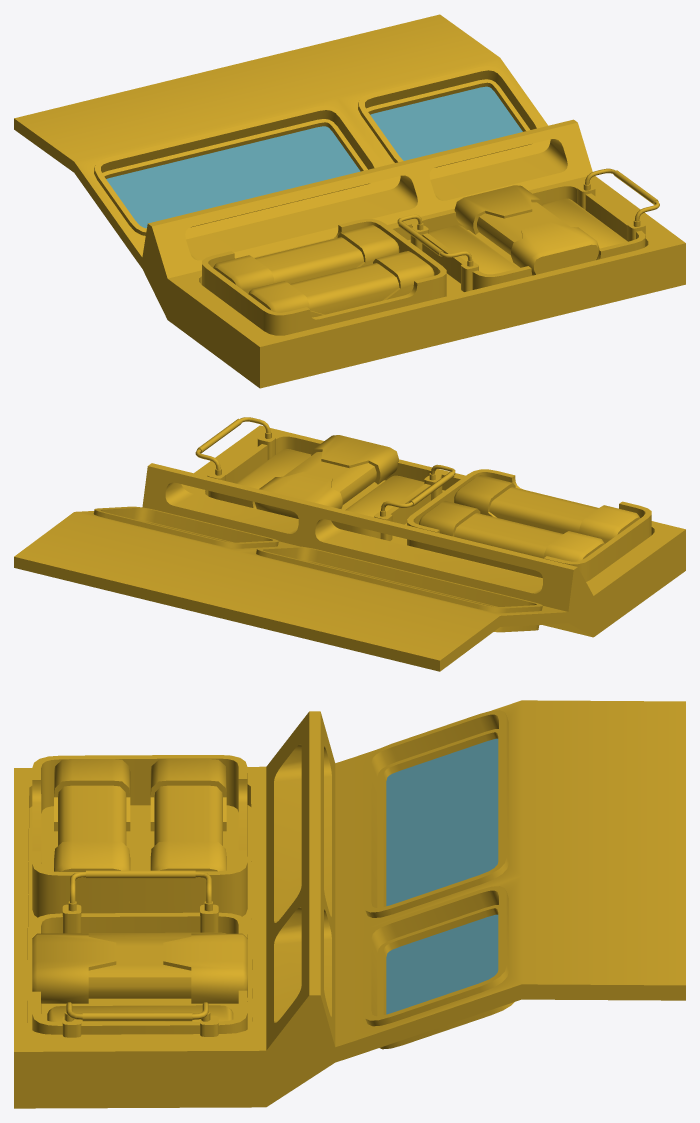
The model's file is Ceiling_Win_B.FBX.
3 views of the same model, one above another, from view 1: azimuth 30°, elevation 25°; view 2: azimuth 150°, elevation 25°; view 3: azimuth 270°, elevation 25° (orthographic). The views are drawn at different scales.
Parts seen in each view (by area): view 1: Ceiling_Win_B, Ceiling_Win_B_Glass; view 2: Ceiling_Win_B; view 3: Ceiling_Win_B, Ceiling_Win_B_Glass.
Boxes of the visible parts, x1,y1,x2,y2 form: Ceiling_Win_B: [14, 14, 685, 388]; Ceiling_Win_B_Glass: [106, 86, 522, 228]; Ceiling_Win_B: [14, 417, 685, 671]; Ceiling_Win_B: [14, 700, 685, 1108]; Ceiling_Win_B_Glass: [386, 738, 498, 1014].
Size of the model in its own units: 400 by 82.44 by 400.
